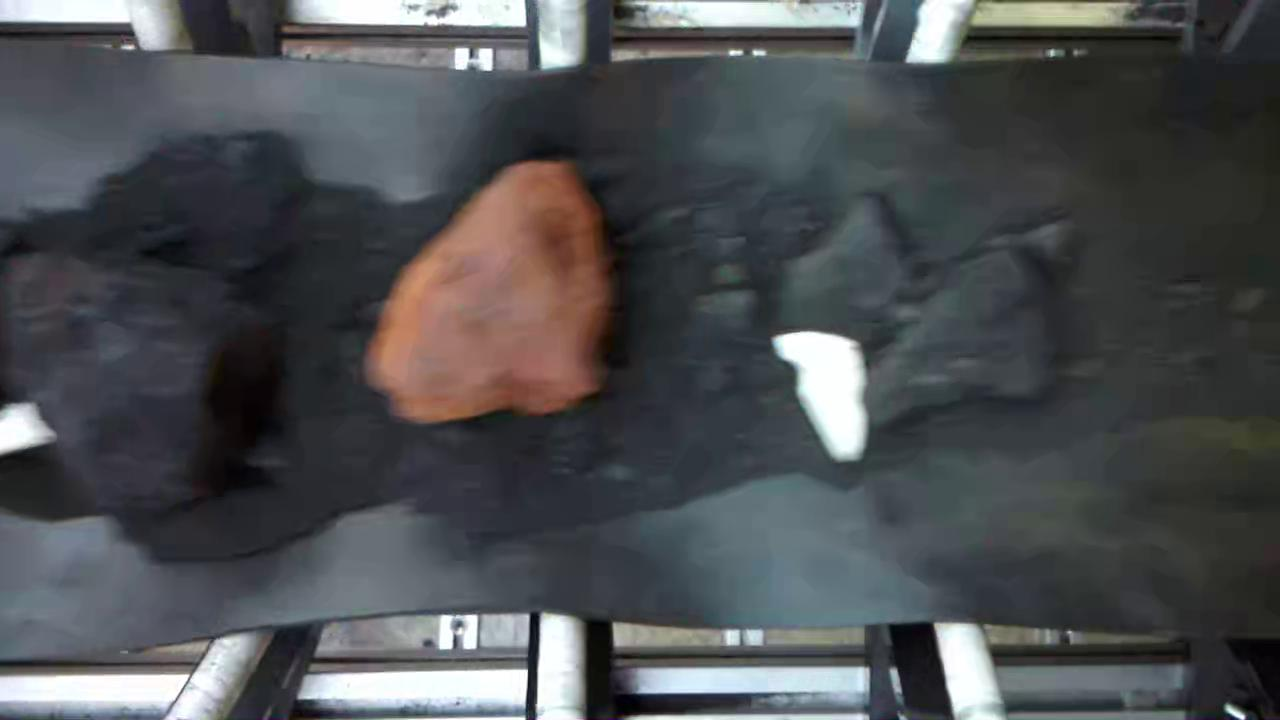conveyor: (7, 79, 1280, 618)
